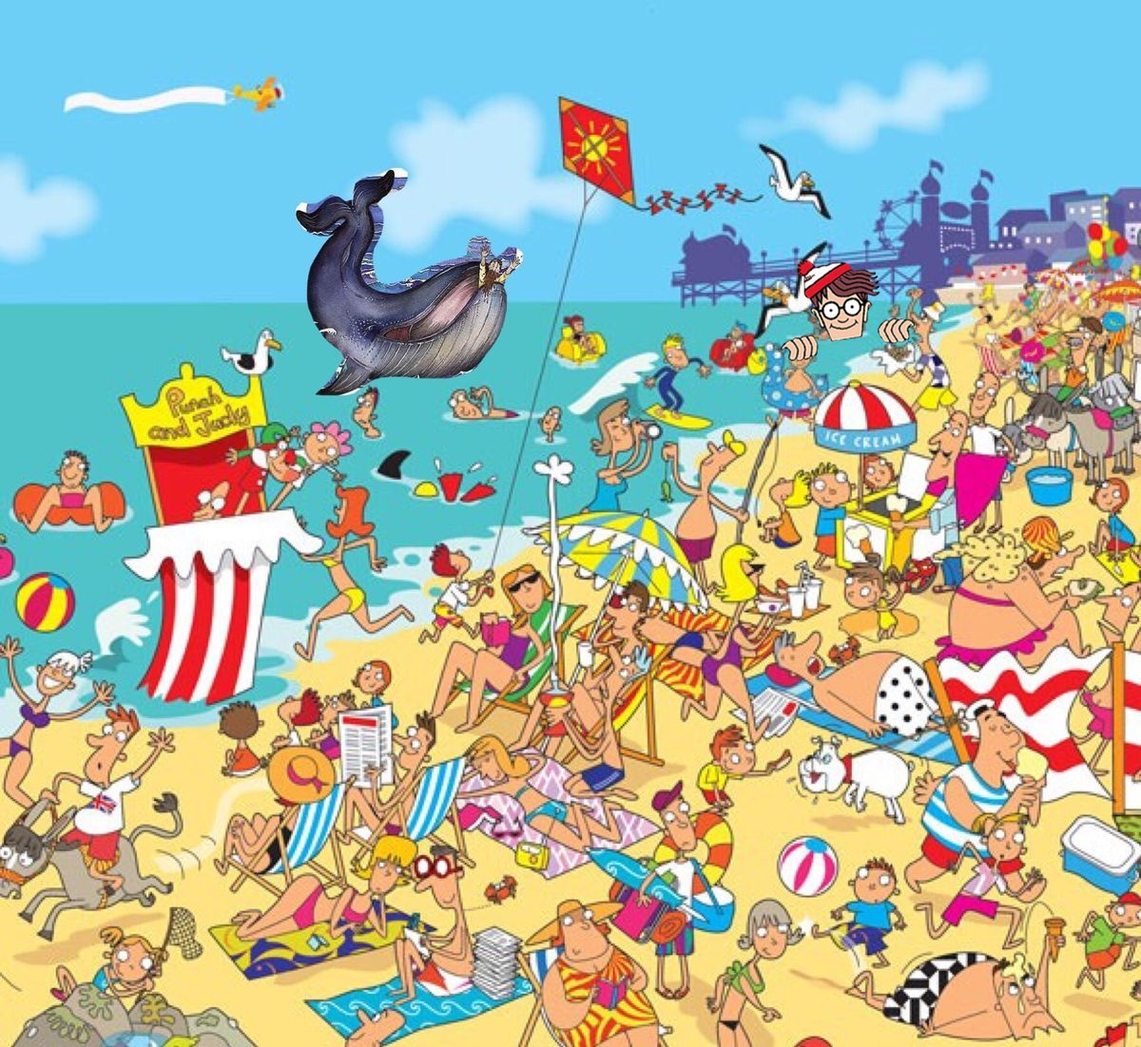waldo: (781, 260, 915, 361)
